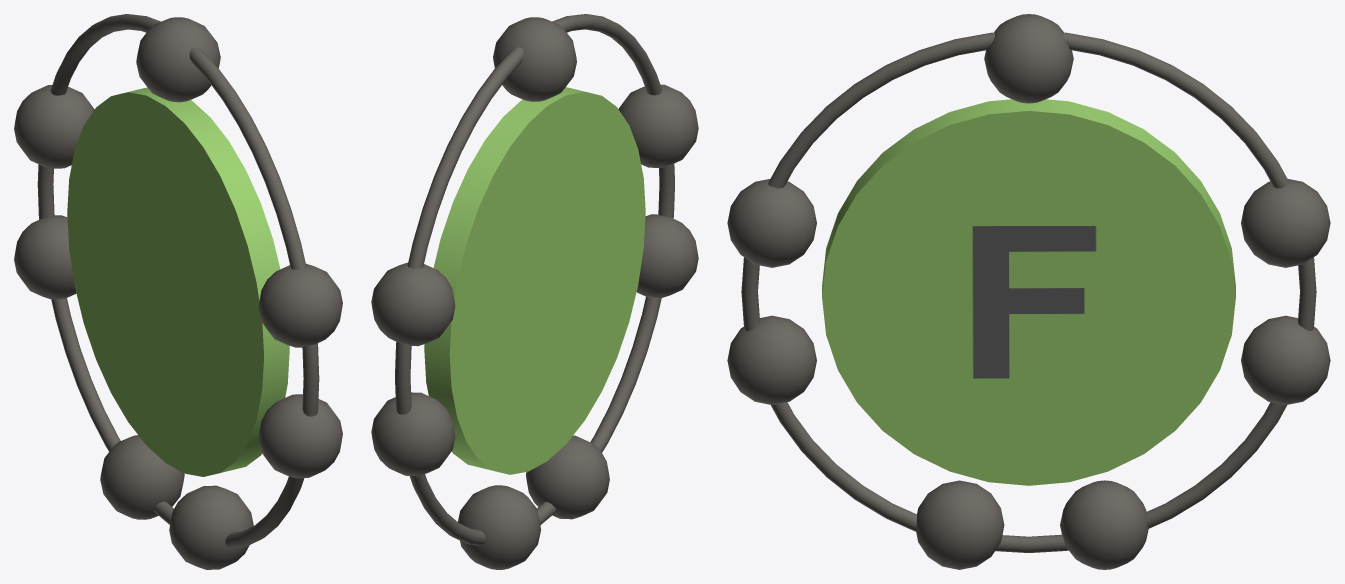
3 renders of one model, left to right at view 1: azimuth 30°, elevation 25°; view 2: azimuth 150°, elevation 25°; view 3: azimuth 270°, elevation 25°, orthographic. The views are drawn at different scales.
Parts seen in each view (by area): view 1: m_f, m_aro.002, m_ele.010, m_ele.009, m_ele.012, m_ele.007, m_ele.008, m_ele.013, m_ele.011; view 2: m_f, m_aro.002, m_ele.013, m_ele.011, m_ele.008, m_ele.007, m_ele.012, m_ele.010, m_ele.009; view 3: m_f, m_aro.002, m_ele.012, m_ele.008, m_ele.009, m_ele.011, m_ele.007, m_ele.010, m_ele.013.
Part boxes in pixels (x1,y1,x2,y2): m_f: (67, 87, 289, 476); m_aro.002: (37, 14, 319, 548); m_ele.010: (258, 263, 342, 347); m_ele.009: (258, 394, 342, 478); m_ele.012: (169, 485, 253, 569); m_ele.007: (136, 17, 220, 102); m_ele.008: (100, 435, 184, 519); m_ele.013: (14, 85, 94, 168); m_ele.011: (14, 215, 76, 299); m_f: (424, 87, 645, 474); m_aro.002: (395, 14, 674, 545); m_ele.013: (371, 262, 455, 346); m_ele.011: (371, 392, 455, 476); m_ele.008: (458, 485, 540, 569); m_ele.007: (493, 17, 576, 101); m_ele.012: (526, 435, 609, 519); m_ele.010: (618, 84, 698, 167); m_ele.009: (636, 214, 698, 298); m_f: (822, 99, 1235, 485); m_aro.002: (741, 32, 1316, 552); m_ele.012: (916, 480, 1004, 569); m_ele.008: (1060, 480, 1148, 569); m_ele.009: (727, 315, 816, 404); m_ele.011: (1241, 315, 1330, 404); m_ele.007: (984, 14, 1073, 103); m_ele.010: (727, 178, 816, 267); m_ele.013: (1241, 178, 1330, 267).
Size of the model in its own units: 43.32 by 292 by 292.
